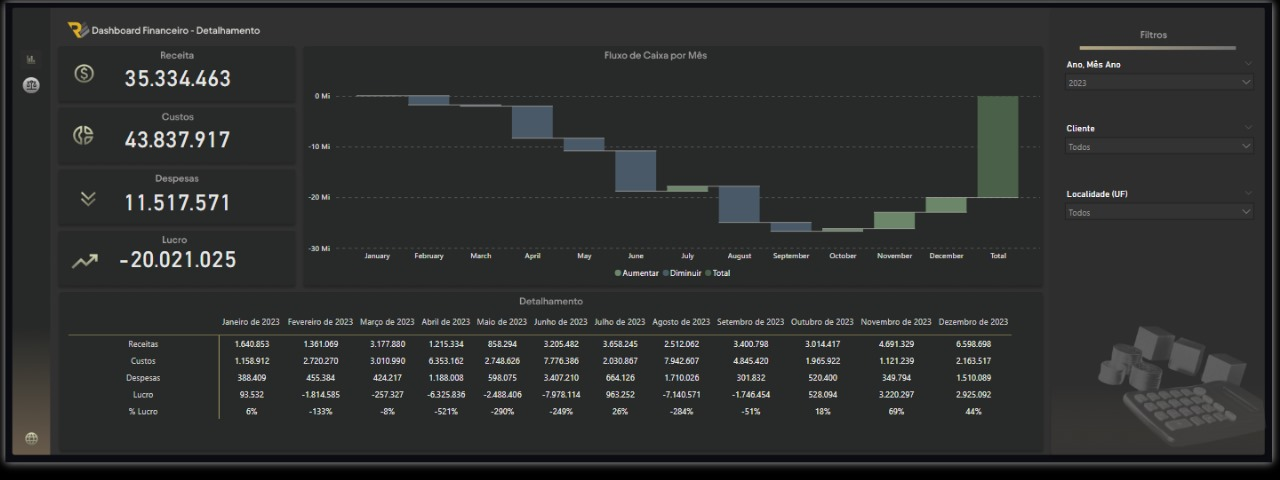

The dashboard page shown, as its layout file describes it:
{"tool":"powerbi","page":{"name":"Detalhamento","canvas":[2035,740],"ordinal":1},"visuals":[{"type":"card","fields":{"Values":["_Medidas.# Receitas"]},"box":[85.7,72.9,382.9,90],"z":0},{"type":"card","fields":{"Values":["_Medidas.# Custos"]},"box":[86.2,171.2,381.2,90],"z":1000},{"type":"card","fields":{"Values":["_Medidas.# Despesas"]},"box":[86.2,272.5,381.2,90],"z":2000},{"type":"card","fields":{"Values":["_Medidas.# Lucro"]},"box":[86.2,363.8,381.2,90],"z":3000},{"type":"slicer","fields":{"Values":["d_calendario.Ano","d_calendario.Período"]},"box":[1692.9,86.2,324.3,90],"z":4000},{"type":"slicer","fields":{"Values":["f_recebidos.cliente"]},"box":[1692.9,189,324.3,90],"z":10000},{"type":"slicer","fields":{"Values":["f_recebidos.uf"]},"box":[1692.9,294.7,324.3,90],"z":11000},{"type":"actionButton","box":[24,76,34,32],"z":11001},{"type":"waterfallChart","fields":{"Y":["_Medidas.# Lucro"],"Category":["d_calendario.data.Variation.Date Hierarchy.Month"]},"box":[481.4,95.7,1185.7,358.6],"z":11002},{"type":"pivotTable","fields":{"Values":["_Medidas.# Receitas","_Medidas.# Custos","_Medidas.# Despesas","_Medidas.# Lucro","_Medidas.% Lucro"],"Columns":["d_calendario.Período"]},"box":[95.7,494.3,1554.3,218.6],"z":11003}]}

Visuals, with their boxes on the page's 2035x740 design canvas (x1, y1, x2, y2). These are canvas units, not pixel positions in the 1280x480 screenshot, which may show the page scaled, cropped or inside an application window:
card - _Medidas.# Receitas: bbox(86, 73, 469, 163)
card - _Medidas.# Custos: bbox(86, 171, 467, 261)
card - _Medidas.# Despesas: bbox(86, 272, 467, 362)
card - _Medidas.# Lucro: bbox(86, 364, 467, 454)
slicer - d_calendario.Ano x d_calendario.Período: bbox(1693, 86, 2017, 176)
slicer - f_recebidos.cliente: bbox(1693, 189, 2017, 279)
slicer - f_recebidos.uf: bbox(1693, 295, 2017, 385)
actionButton: bbox(24, 76, 58, 108)
waterfallChart - _Medidas.# Lucro x d_calendario.data.Variation.Date Hierarchy.Month: bbox(481, 96, 1667, 454)
pivotTable - _Medidas.# Receitas x _Medidas.# Custos: bbox(96, 494, 1650, 713)
